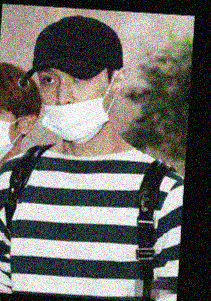mask_weared_incorrect: (36, 70, 112, 141)
